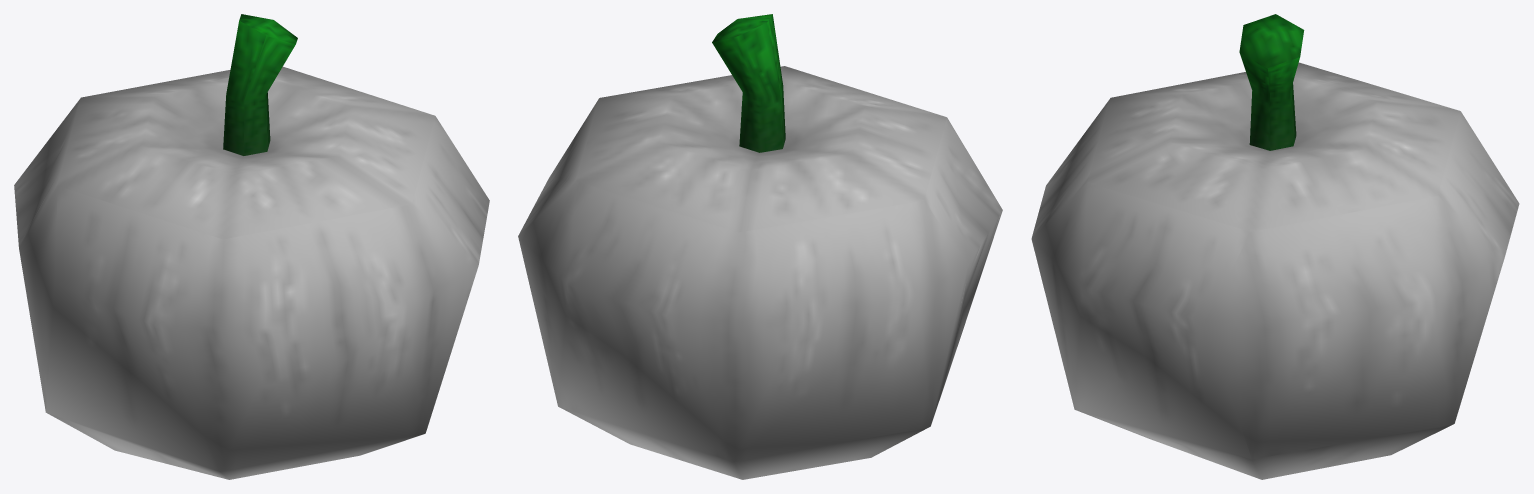
File: WorldItem_SmallPumpkin.fbx
3 views of the same model, side by side, from view 1: azimuth 30°, elevation 25°; view 2: azimuth 150°, elevation 25°; view 3: azimuth 270°, elevation 25° (orthographic).
Parts seen in each view (by area): view 1: SmolPumpkin; view 2: SmolPumpkin; view 3: SmolPumpkin.
Boxes of the visible parts, x1=… form: SmolPumpkin: x1=14, y1=14, x2=489, y2=479; SmolPumpkin: x1=518, y1=14, x2=1002, y2=479; SmolPumpkin: x1=1031, y1=14, x2=1519, y2=479.
Bounding box in the file's own units: 0.1387 × 0.1342 × 0.1451.
